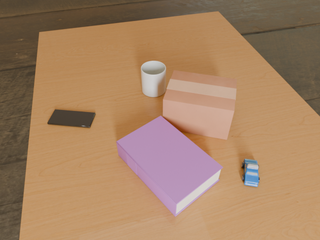book: (116, 116, 223, 216)
box: (163, 70, 237, 140)
cup: (141, 61, 166, 97)
phone: (48, 109, 95, 128)
toy_car: (241, 159, 260, 187)
